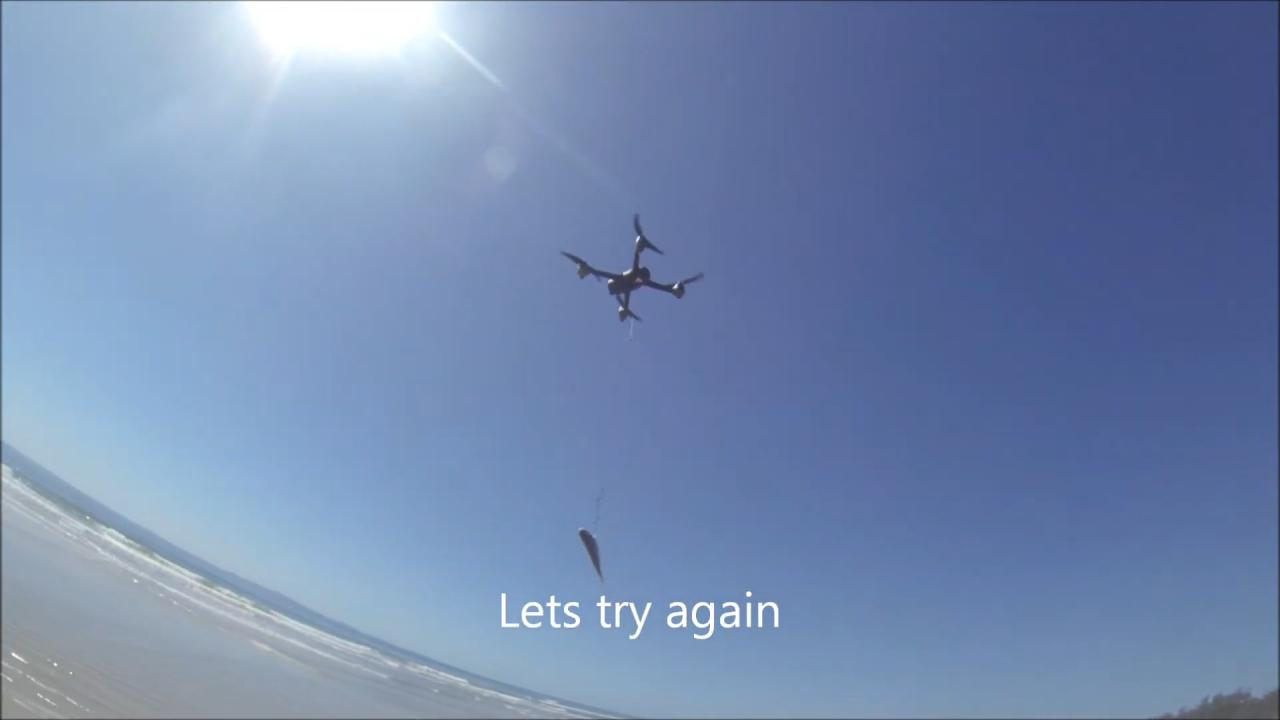Drone: (549, 203, 715, 339)
